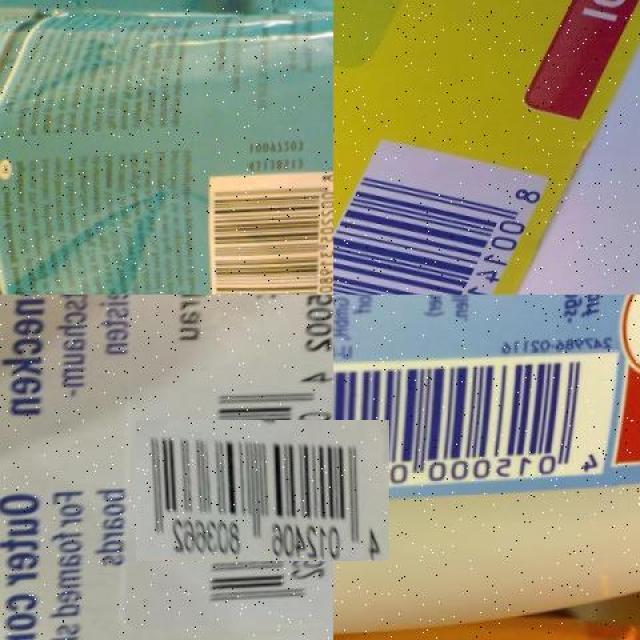Barcode: (333, 350, 618, 494), (164, 391, 361, 589), (333, 132, 550, 295), (202, 165, 334, 295)
